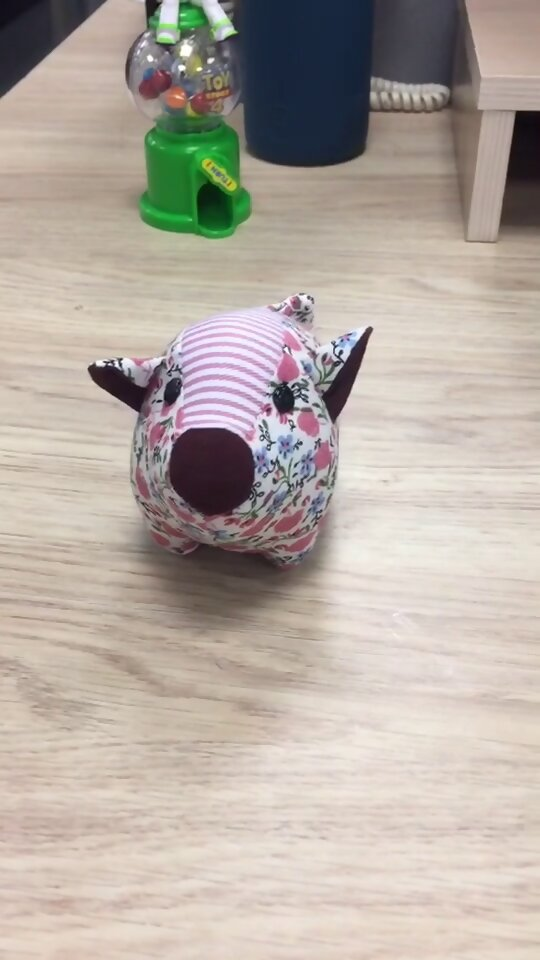pig: (82, 288, 377, 575)
